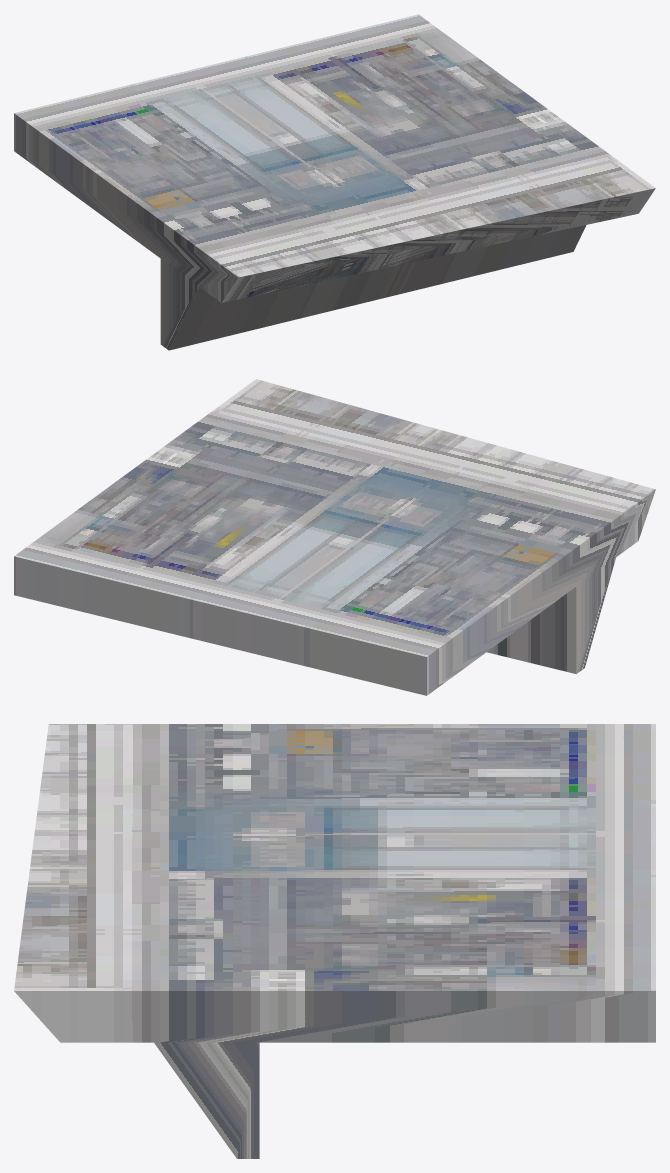
The model's file is 015_highriserWall_cell_003.gltf.
3 views of the same model, one above another, from view 1: azimuth 30°, elevation 25°; view 2: azimuth 150°, elevation 25°; view 3: azimuth 270°, elevation 25° (orthographic). The views are drawn at different scales.
Visible parts, largest first — view 1: highriserWall_cell_003; view 2: highriserWall_cell_003; view 3: highriserWall_cell_003.
Part boxes in pixels (x1=…): highriserWall_cell_003: x1=14, y1=14, x2=655, y2=350; highriserWall_cell_003: x1=14, y1=379, x2=655, y2=695; highriserWall_cell_003: x1=14, y1=724, x2=655, y2=1158.
Bounding box in the file's own units: 4.09 × 1.2 × 4.16.
Materials: 1 (1 with a texture image).
